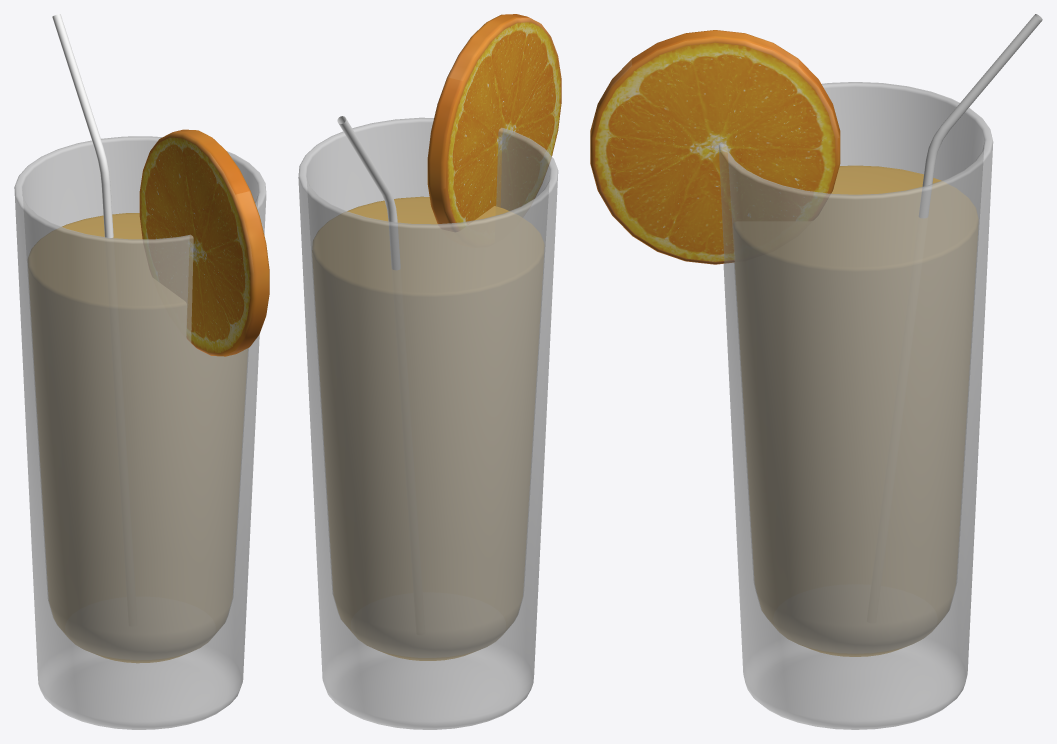
File: orange_juice.glb
The picture shows the model from 3 angles, left to right: view 1: azimuth 30°, elevation 25°; view 2: azimuth 150°, elevation 25°; view 3: azimuth 270°, elevation 25°; orthographic projection. The views are drawn at different scales.
Parts seen in each view (by area): view 1: Sweep; view 2: Sweep; view 3: Sweep.
Boxes of the visible parts, x1,y1,x2,y2 form: Sweep: (14,14,269,729); Sweep: (298,14,561,729); Sweep: (590,14,1042,729).
Bounding box in the file's own units: 7.29 × 19.64 × 11.95.
5 materials, 2 textured.
